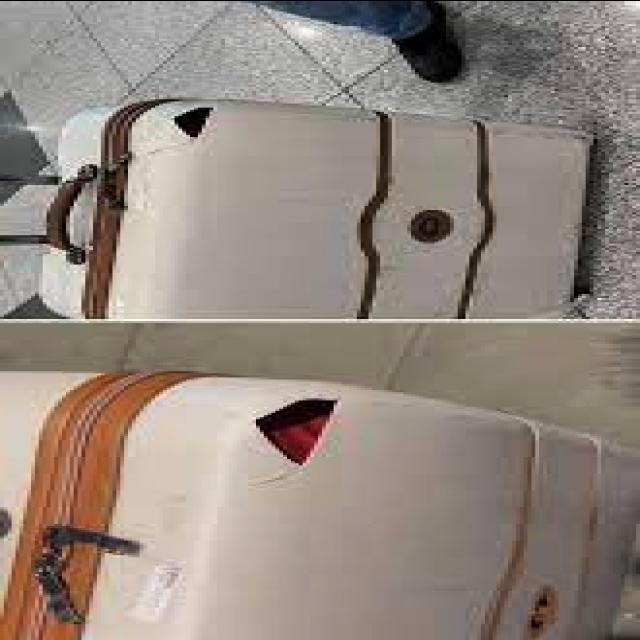Damage-bag: (252, 399, 335, 489), (174, 106, 211, 138)
